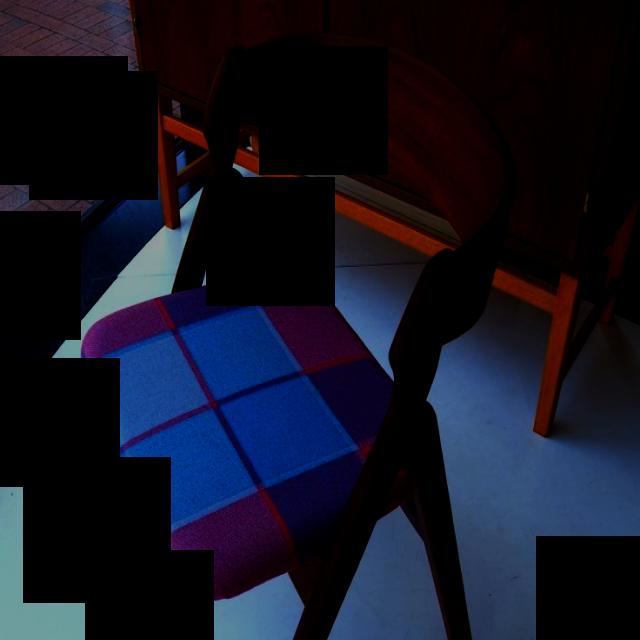chair vintage: (76, 23, 552, 640)
